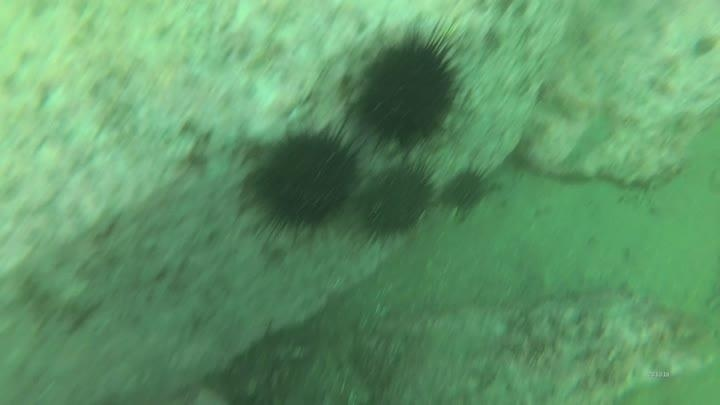echinus: (347, 23, 468, 155), (240, 119, 367, 244), (349, 157, 440, 245), (437, 162, 495, 217)
